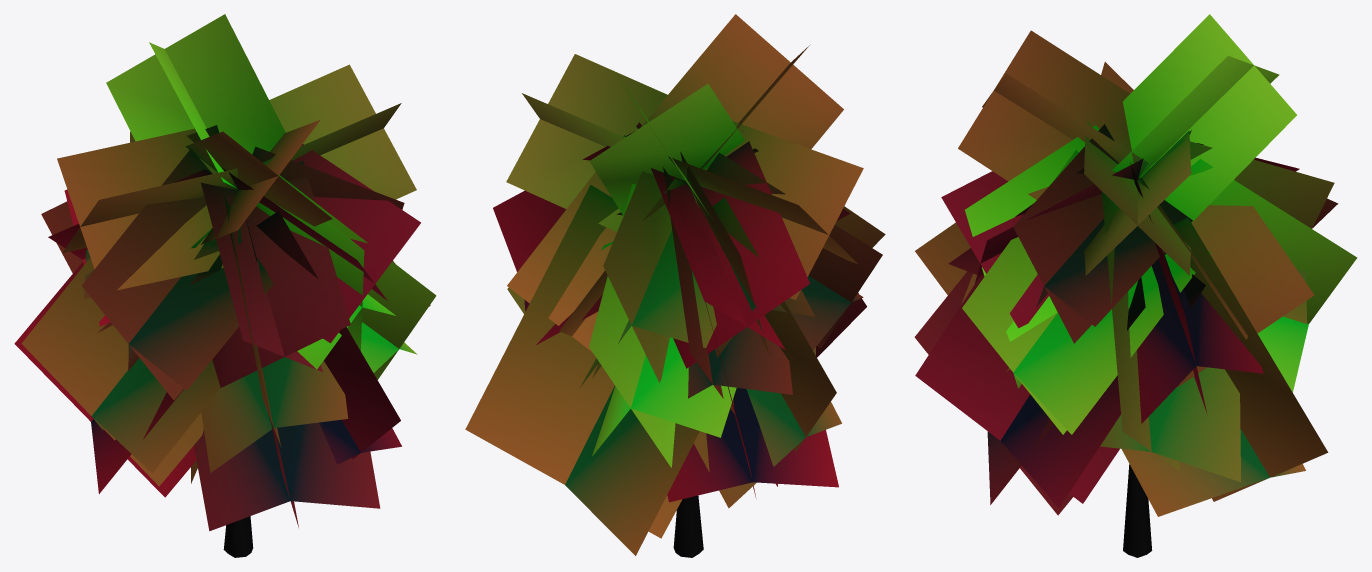
File: Super_11_10.fbx
3 views of the same model, side by side, from view 1: azimuth 30°, elevation 25°; view 2: azimuth 150°, elevation 25°; view 3: azimuth 270°, elevation 25° (orthographic). The views are drawn at different scales.
Parts seen in each view (by area): view 1: Super_11_10; view 2: Super_11_10; view 3: Super_11_10.
Part boxes in pixels (x1,y1,x2,y2): Super_11_10: [14, 14, 436, 557]; Super_11_10: [465, 14, 885, 557]; Super_11_10: [914, 14, 1357, 557].
Size of the model in its own units: 1332 by 1731 by 1362.
